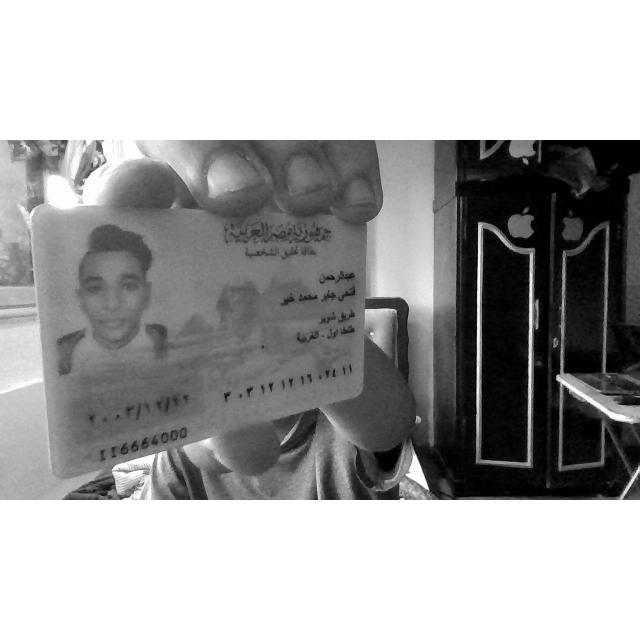front: (32, 204, 366, 478)
